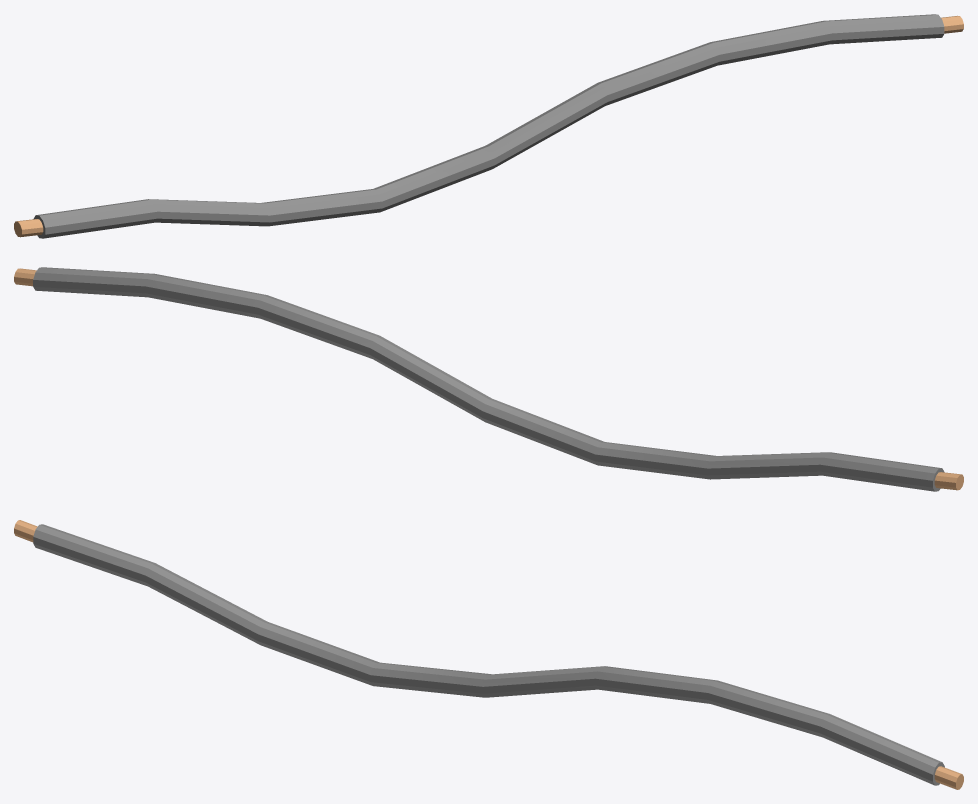
The model's file is Wire_2_Grey.fbx.
3 views of the same model, one above another, from view 1: azimuth 30°, elevation 25°; view 2: azimuth 150°, elevation 25°; view 3: azimuth 330°, elevation 25° (orthographic).
Visible parts, largest first — view 1: polySurface239; view 2: polySurface239; view 3: polySurface239.
Part boxes in pixels (bbox=[...]): polySurface239: bbox=[14, 14, 963, 238]; polySurface239: bbox=[14, 267, 963, 491]; polySurface239: bbox=[14, 520, 963, 789].
Bounding box in the file's own units: 1.42 × 0.1254 × 0.0308.
